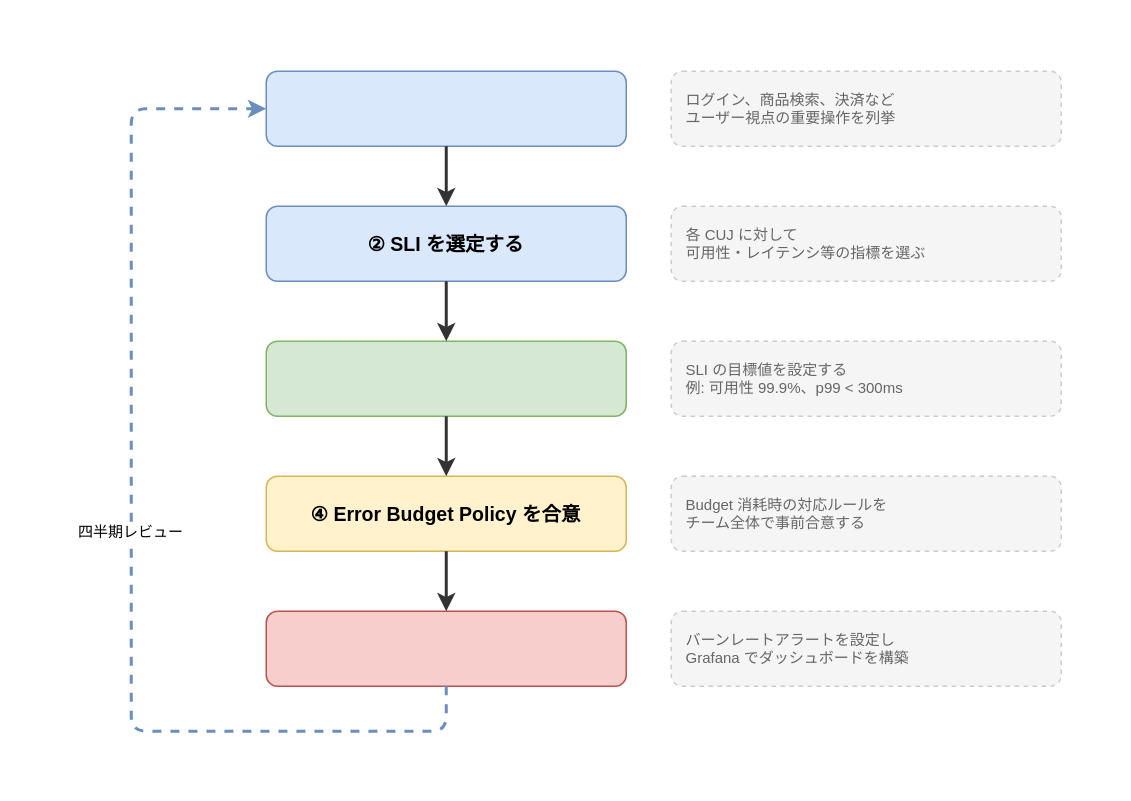
The diagram is 1131 pixels wide and 801 high, and some of its shapes have lost their labels. Here are the shapes that lost their labels. From the top down, the centre of each, then its label:
the point at 445,108: ① CUJ を特定する
the point at 445,378: ③ SLO を設定する
the point at 445,648: ⑤ 監視・アラートを構築する
